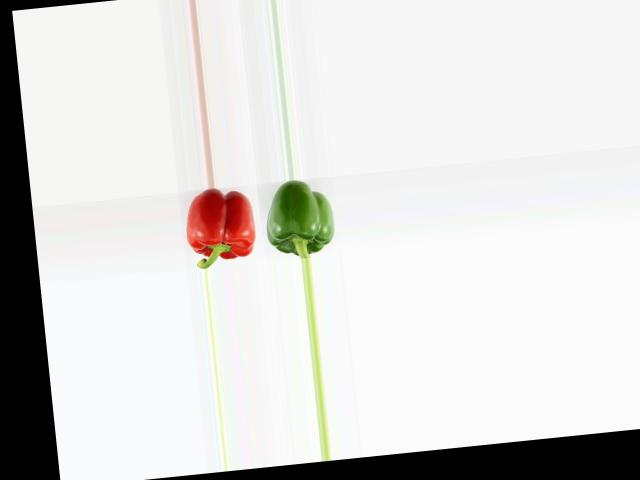bell_pepper: (259, 179, 339, 261)
